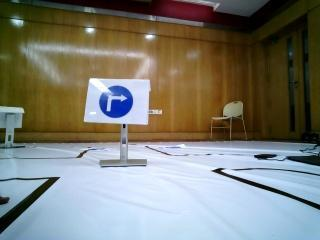right: (90, 78, 144, 120)
